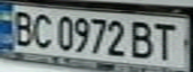0: (54, 12, 75, 52)
2: (106, 16, 130, 57)
7: (87, 16, 109, 55)
9: (69, 15, 90, 53)
B: (127, 18, 160, 61), (6, 8, 36, 47)
C: (30, 10, 57, 49)
T: (151, 20, 184, 62)
